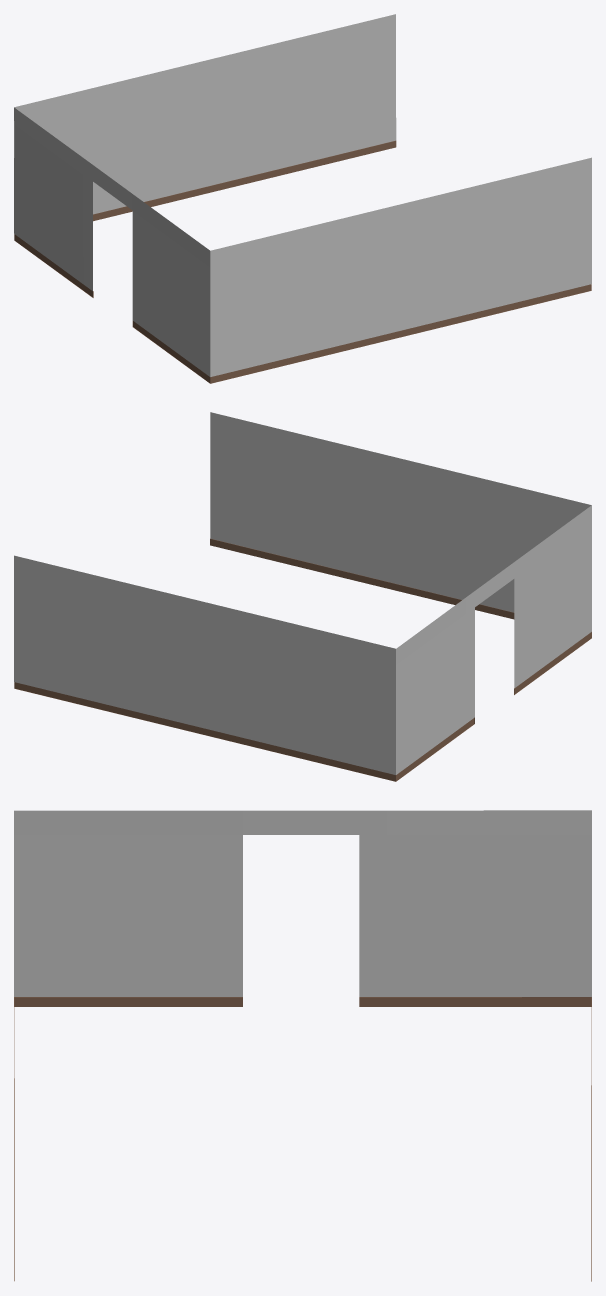
The model's file is Walls(2160x2160).fbx.
3 views of the same model, one above another, from view 1: azimuth 30°, elevation 25°; view 2: azimuth 150°, elevation 25°; view 3: azimuth 270°, elevation 25° (orthographic). The views are drawn at different scales.
Visible parts, largest first — view 1: 3x3.006; view 2: 3x3.006; view 3: 3x3.006.
Part boxes in pixels (left/top/right/bottom): 3x3.006: left=14, top=14, right=591, bottom=383; 3x3.006: left=14, top=412, right=591, bottom=781; 3x3.006: left=14, top=810, right=591, bottom=1281.
Size of the model in its own units: 8.01 by 9.01 by 3.
